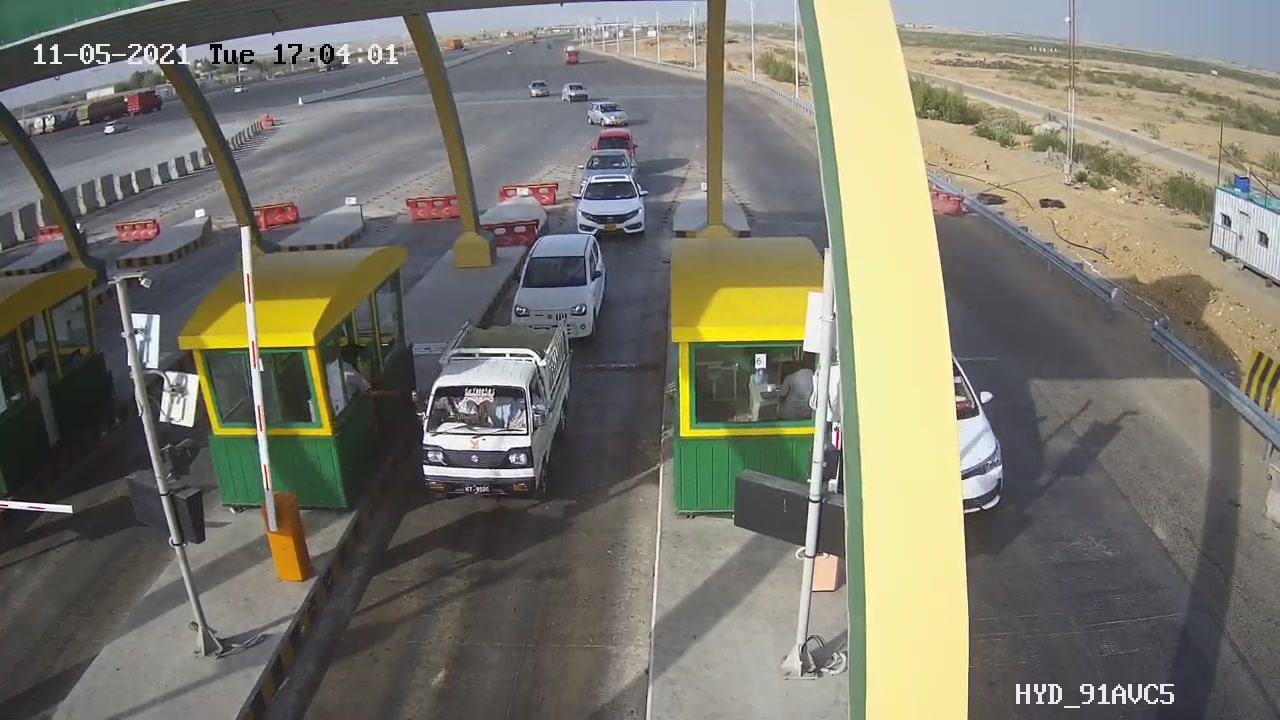F1: (411, 315, 579, 505), (492, 209, 614, 362), (563, 166, 656, 252)
